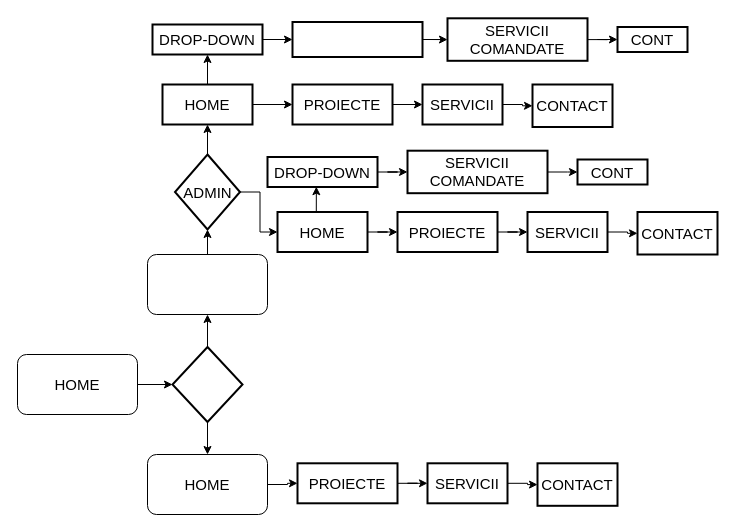
The diagram is 736 pixels wide and 532 high, and some of its shapes have lost their labels. The centre of each missing label's shape, as x and y in pixels:
"ADMINISTREAZA" belongs at pixel 357 39.
"HOME LOGIN" belongs at pixel 207 284.
"LOGIN" belongs at pixel 207 384.
